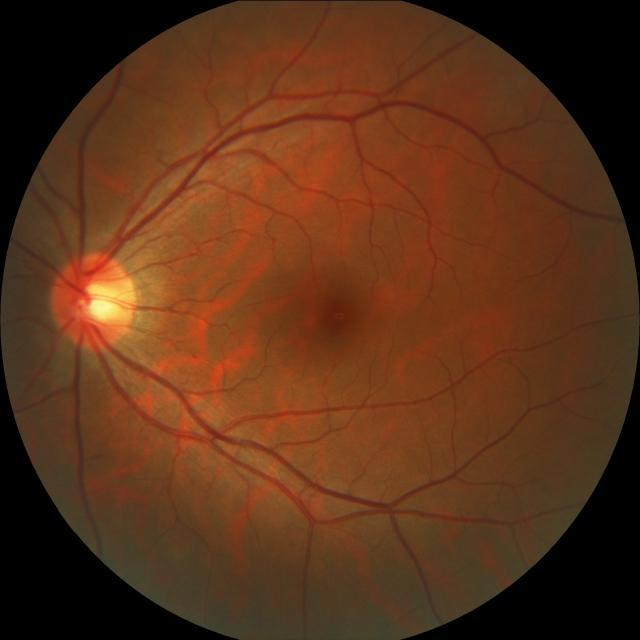OC: (76, 279, 120, 324)
OD: (53, 250, 138, 348)
